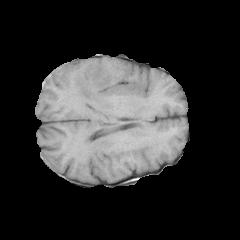glioma: (73, 70, 122, 109)
